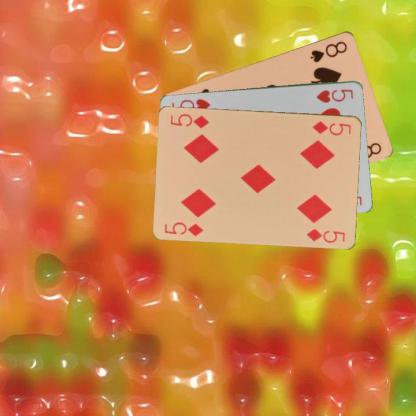5d: (310, 118, 352, 137), (162, 219, 205, 237)
5h: (314, 86, 354, 104)
8s: (308, 38, 348, 64)
